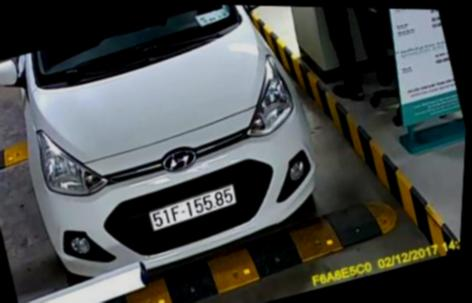License_Plate: (142, 179, 250, 240)
